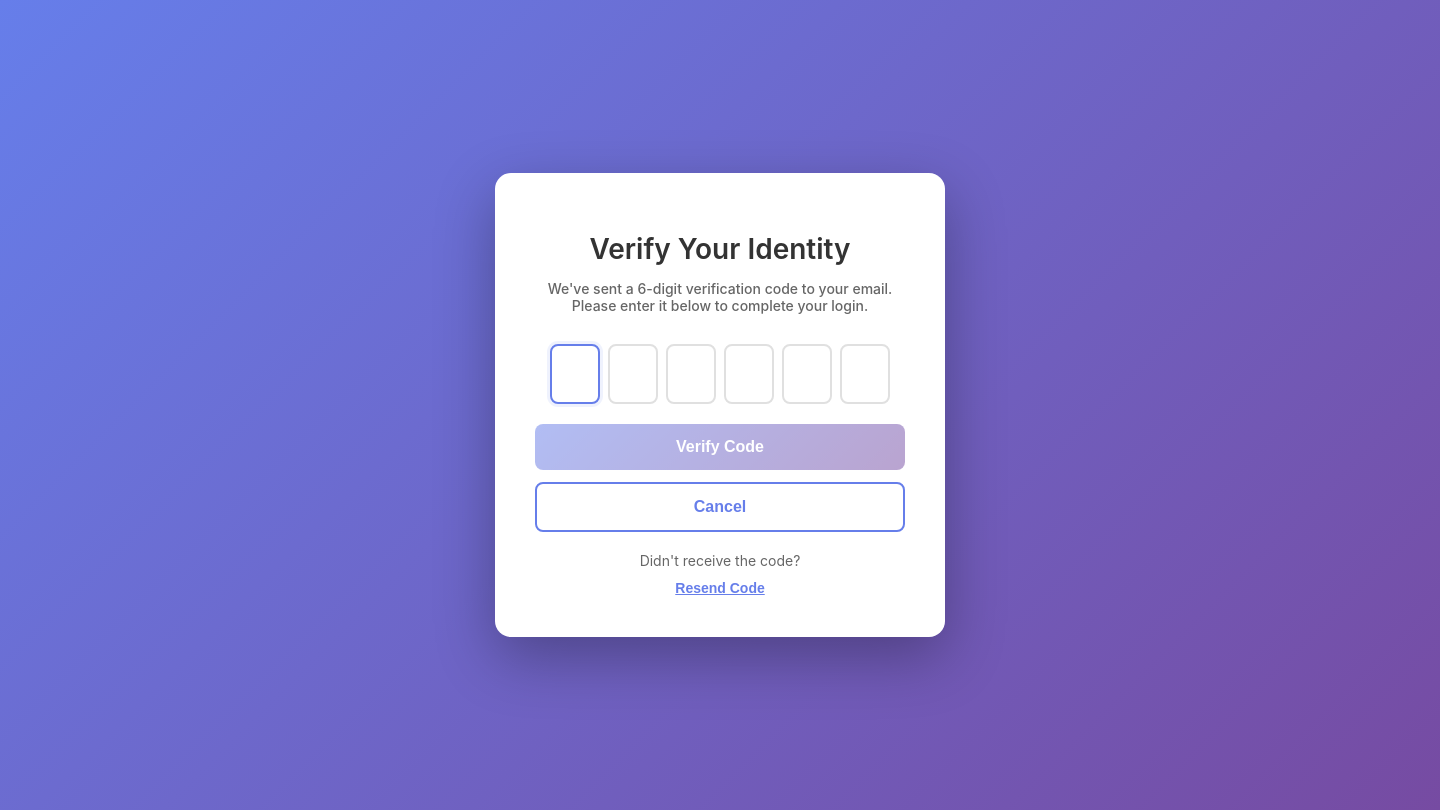
Test case: 2FA Verification Page › Code Input › should disable submit button until 6 digits entered
Expected: the heading "Verify Your Identity" is shown, x1=590 y1=232 x2=850 y2=266
Expected: the button "Verify Code" is disabled, x1=535 y1=424 x2=905 y2=470
In the 1st field: (575, 374) x1=550 y1=344 x2=600 y2=404, type "1"
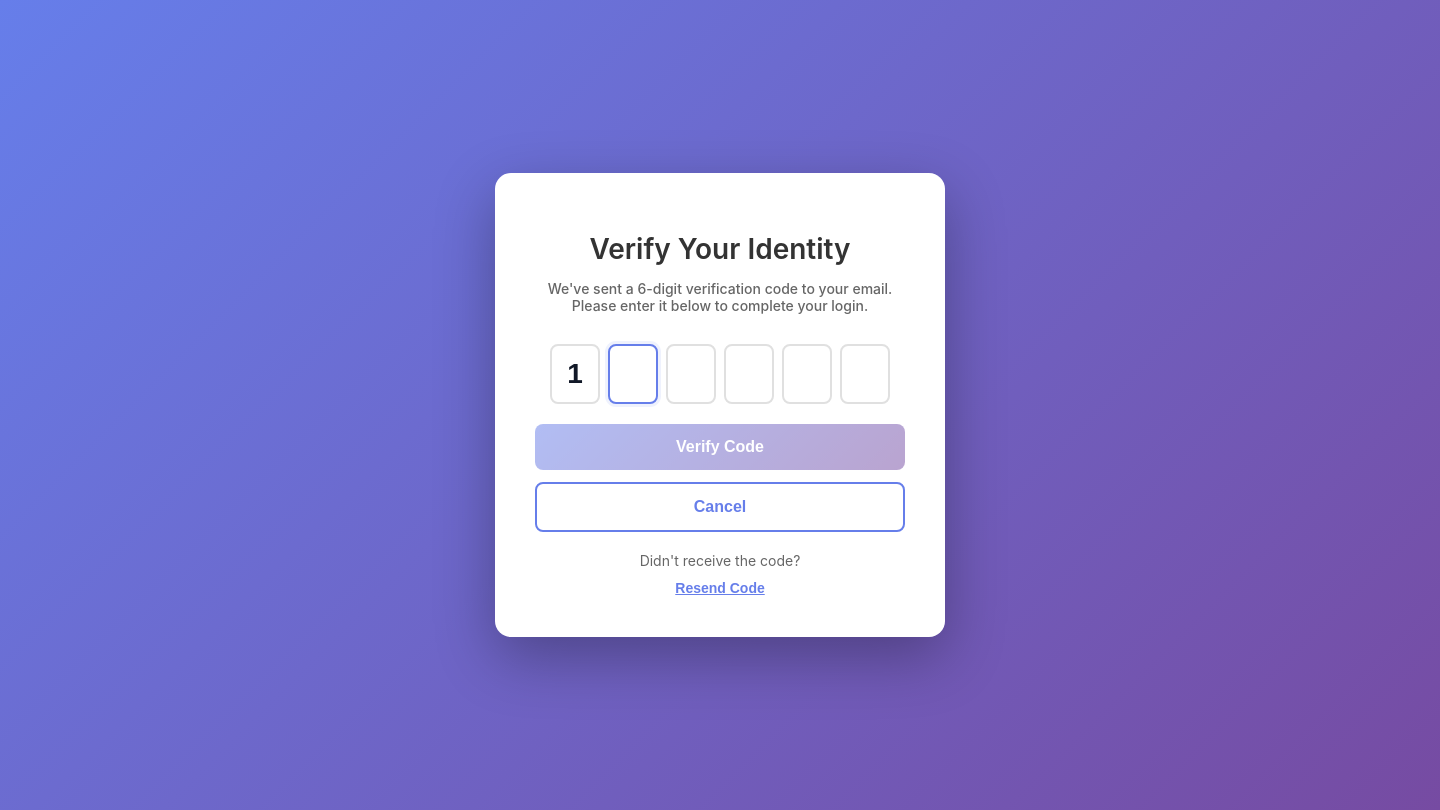
In the 2nd field: (633, 374) x1=608 y1=344 x2=658 y2=404, type "2"
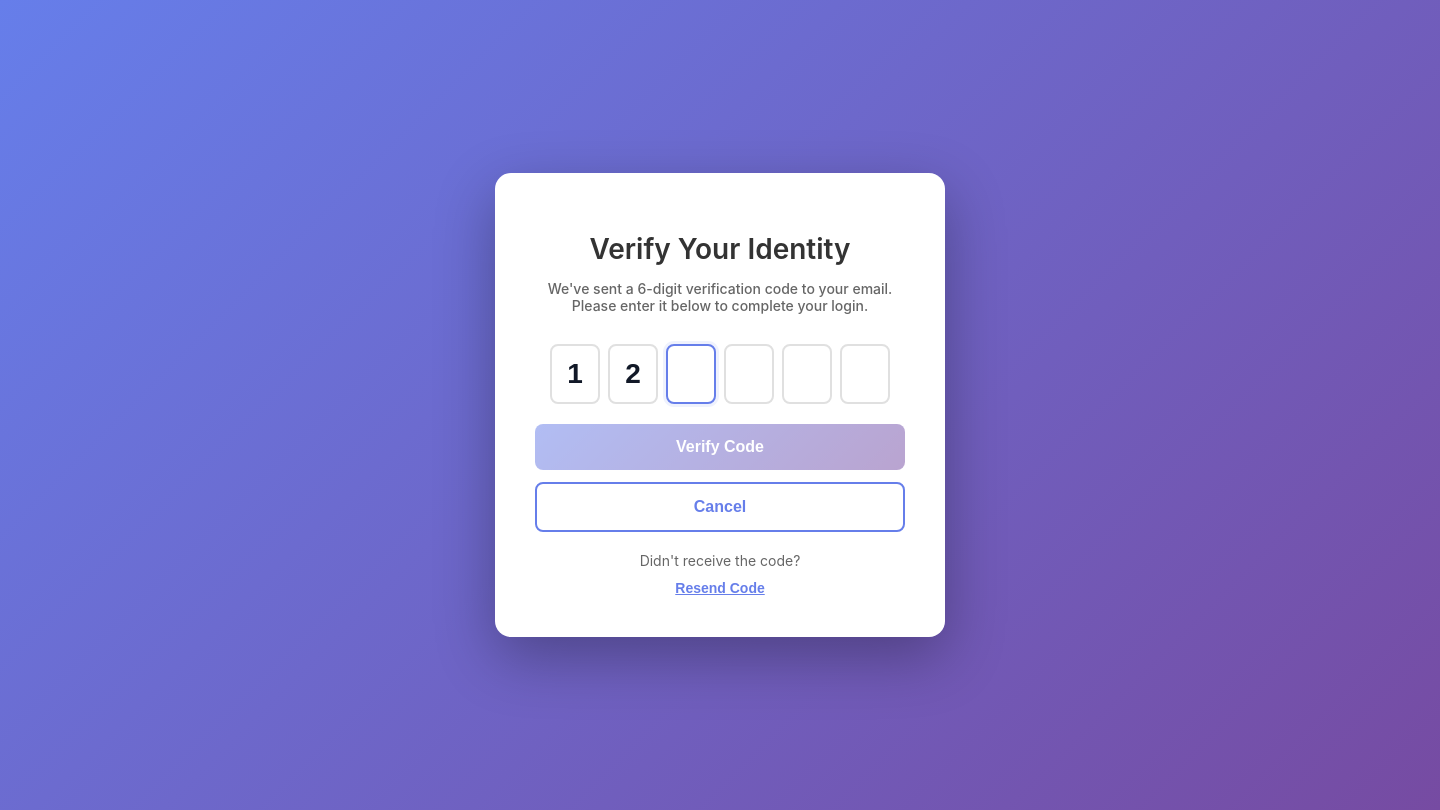
In the 3rd field: (691, 374) x1=666 y1=344 x2=716 y2=404, type "3"
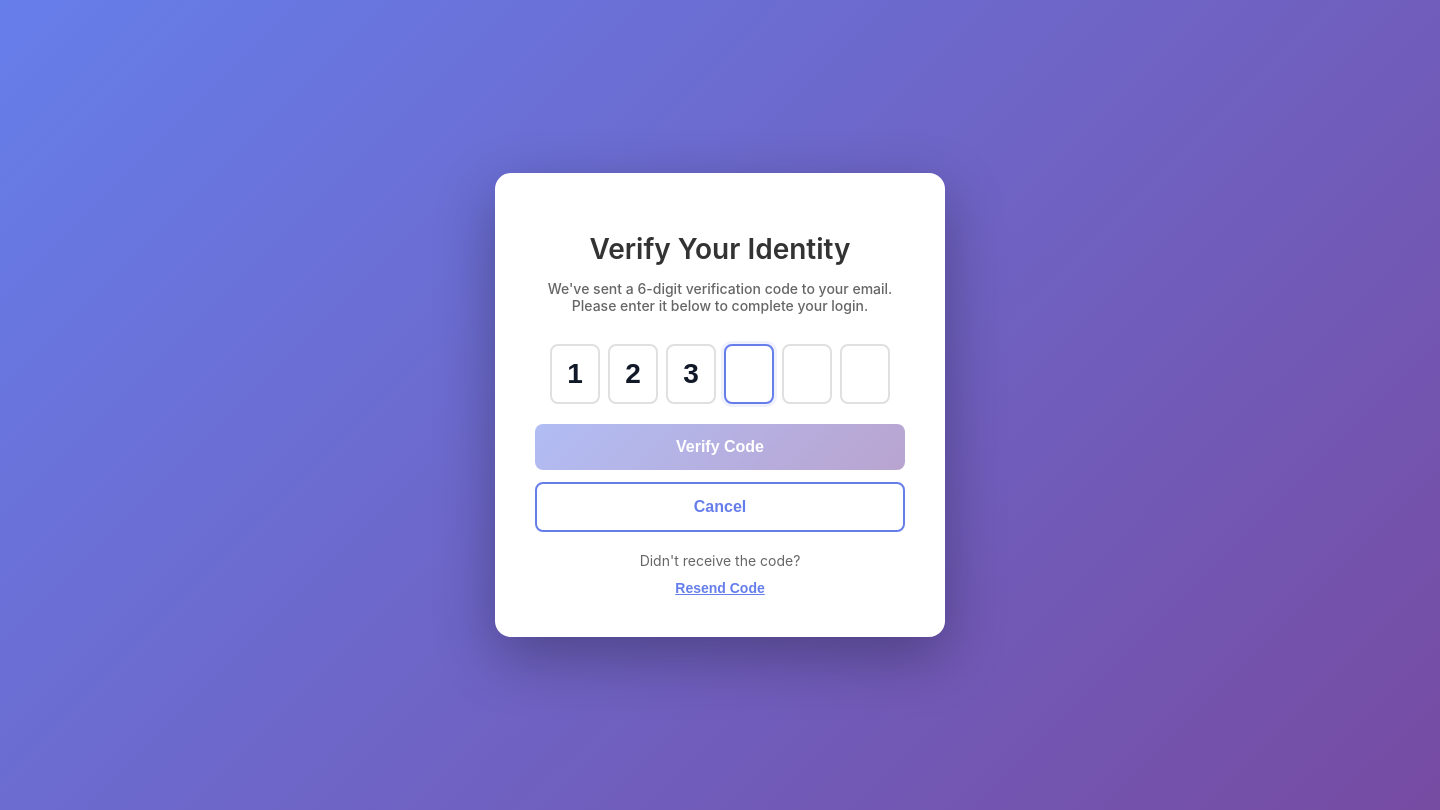
In the 4th field: (749, 374) x1=724 y1=344 x2=774 y2=404, type "4"
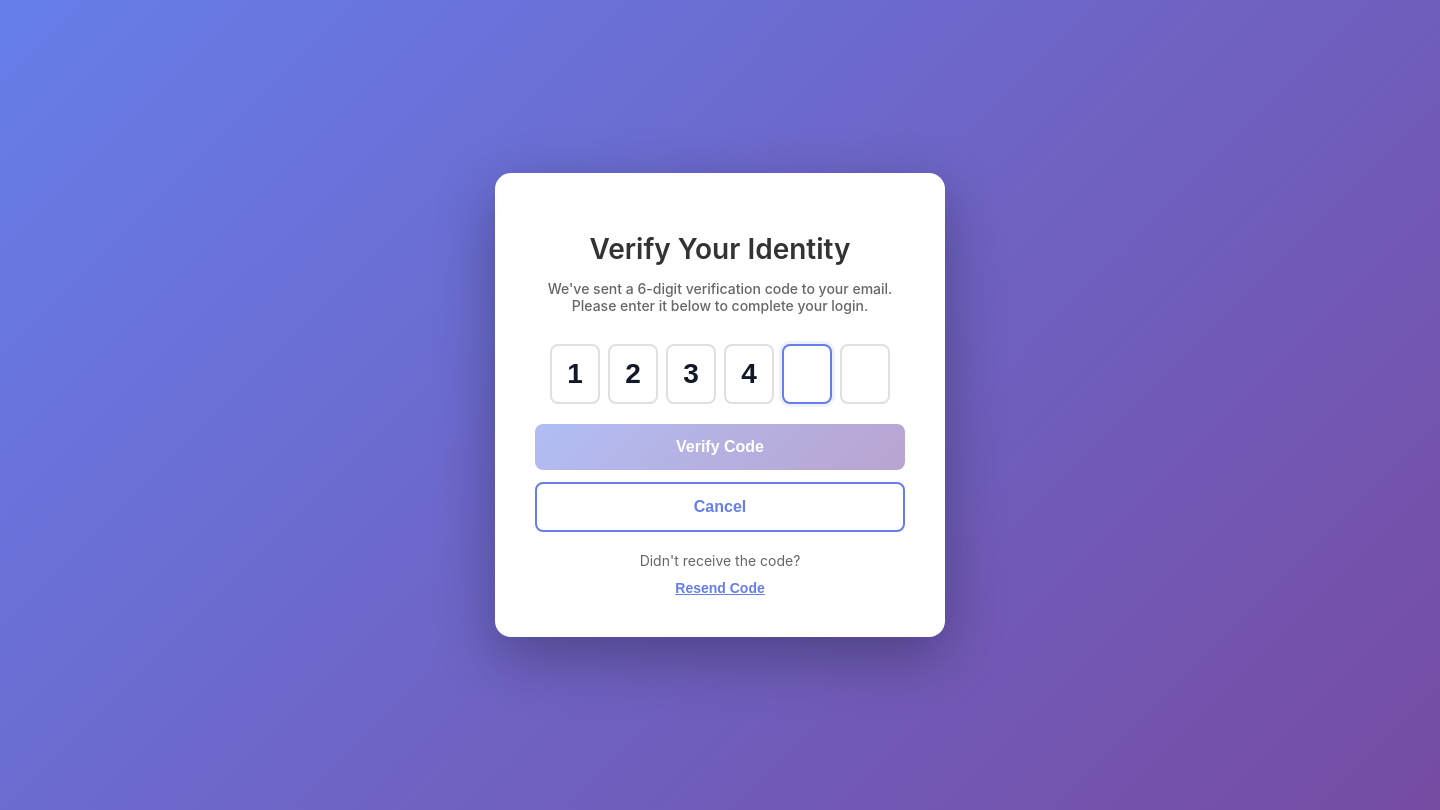
In the 5th field: (807, 374) x1=782 y1=344 x2=832 y2=404, type "5"
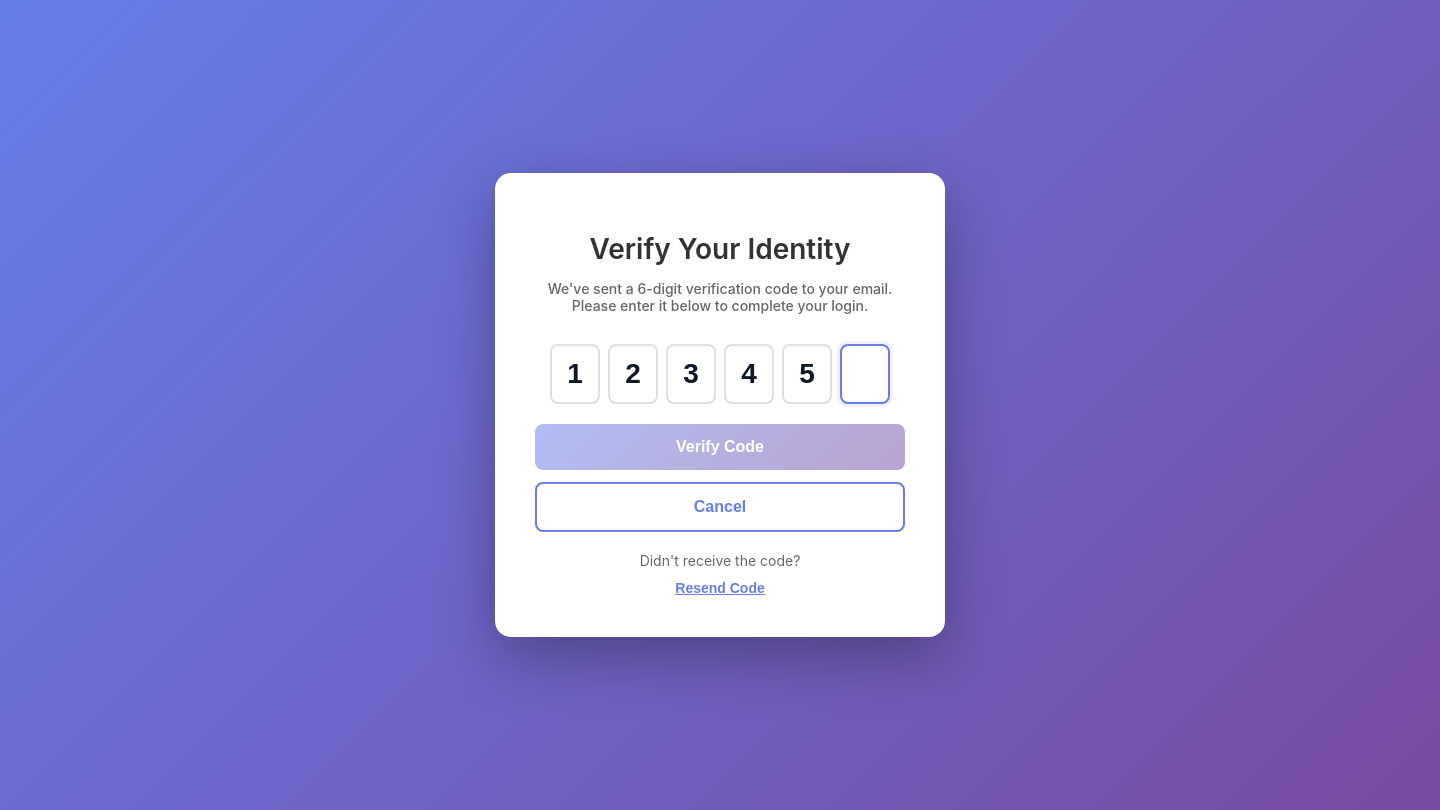
Expected: the button "Verify Code" is disabled, x1=535 y1=424 x2=905 y2=470
In the 6th field: (865, 374) x1=840 y1=344 x2=890 y2=404, type "6"
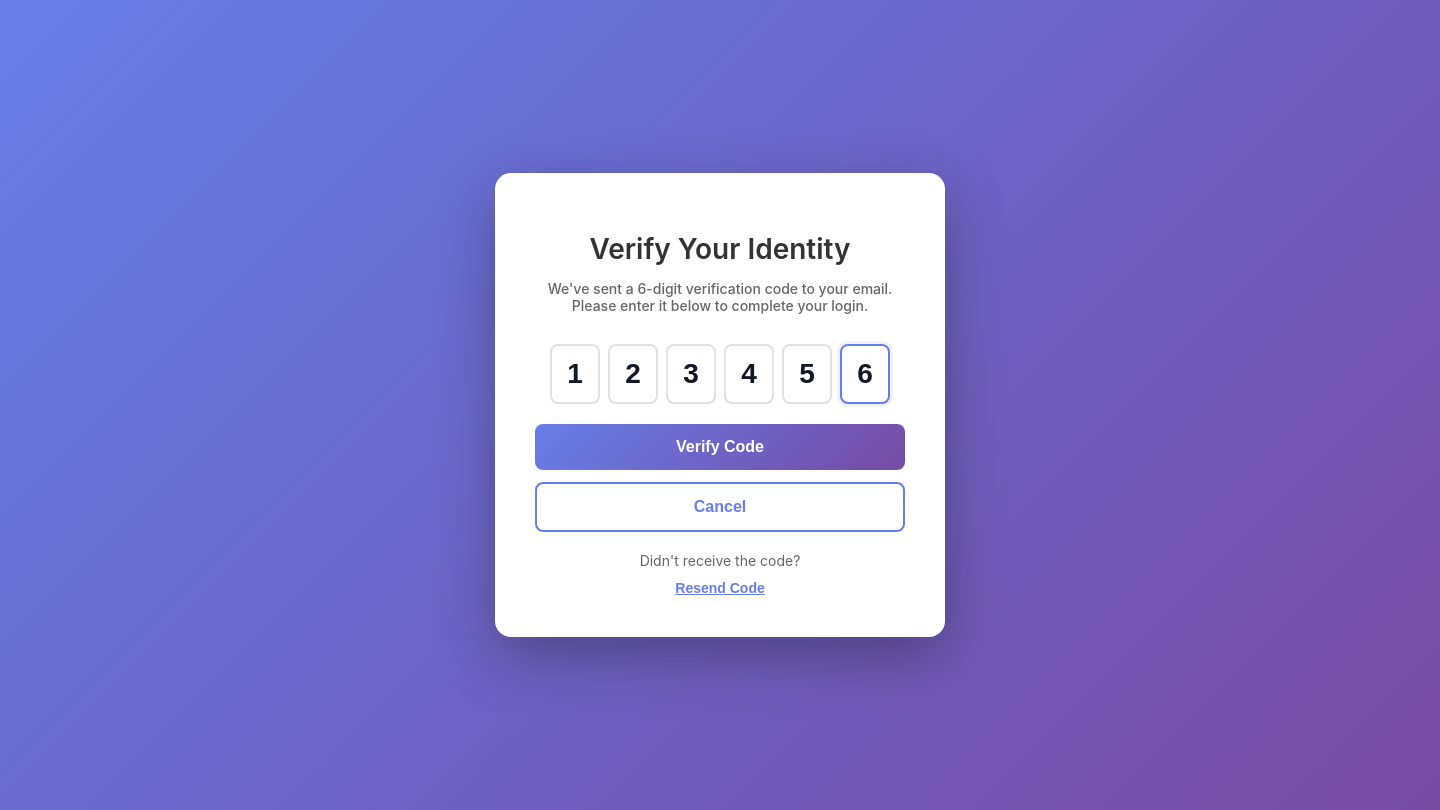
Now the button "Verify Code" is enabled, box x1=535 y1=424 x2=905 y2=470
